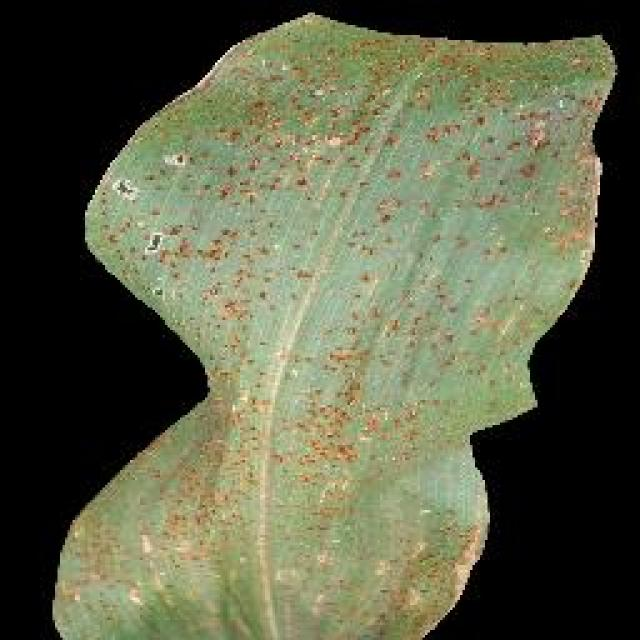Corn Common Rust: (116, 66, 492, 562)
